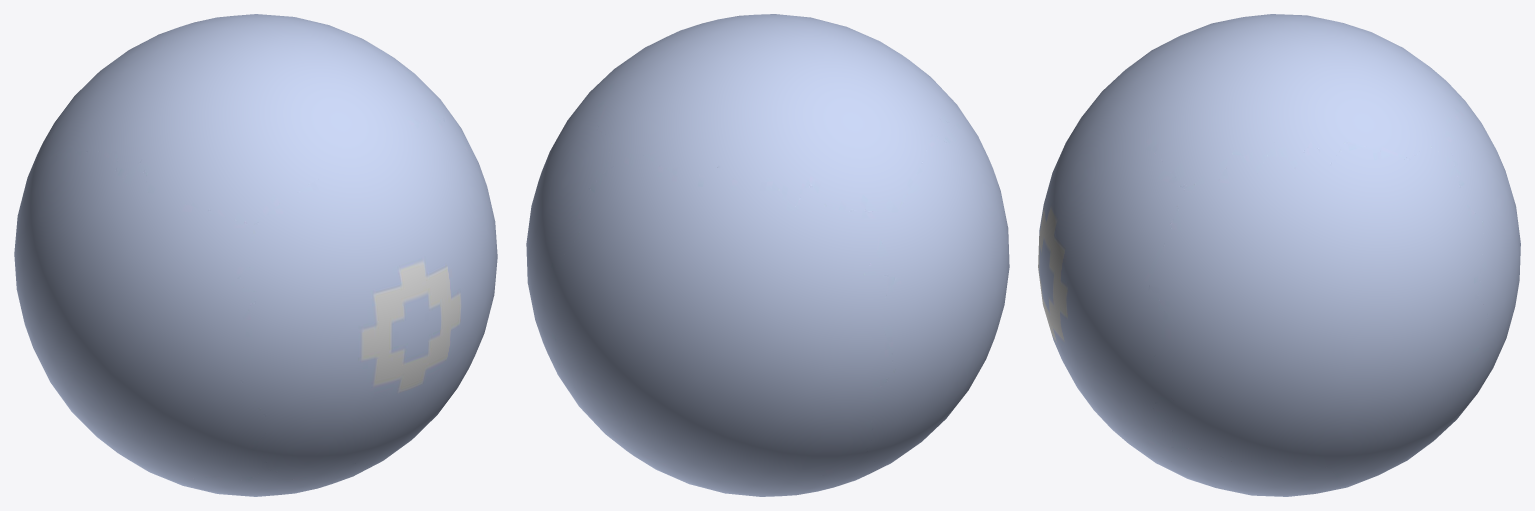
Rendered from baked.glb.
3 views of the same model, side by side, from view 1: azimuth 30°, elevation 25°; view 2: azimuth 150°, elevation 25°; view 3: azimuth 270°, elevation 25° (orthographic).
Visible parts, largest first — view 1: Test; view 2: Test; view 3: Test.
Boxes of the visible parts, box(x1,y1,x2,y2) form: Test: box(14, 14, 497, 496); Test: box(526, 14, 1009, 496); Test: box(1038, 14, 1520, 496).
Bounding box in the file's own units: 0.1598 × 0.1599 × 0.1598.
1 material, 1 textured.
